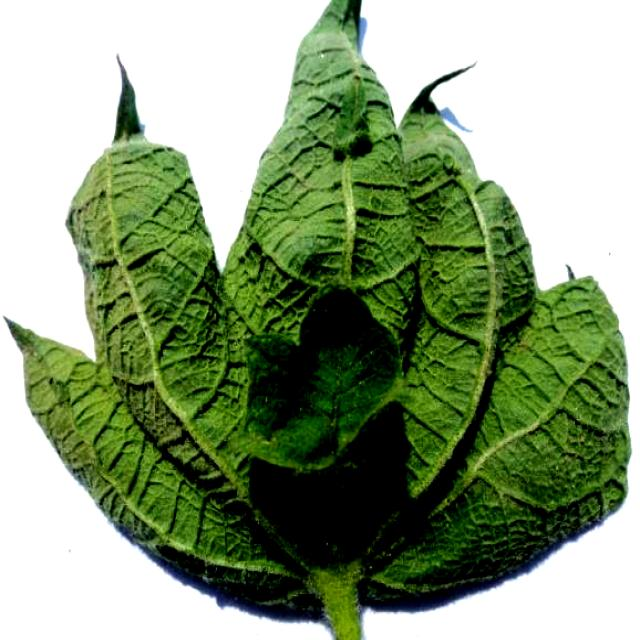Leaf Curl Virus: (98, 175, 566, 544)
